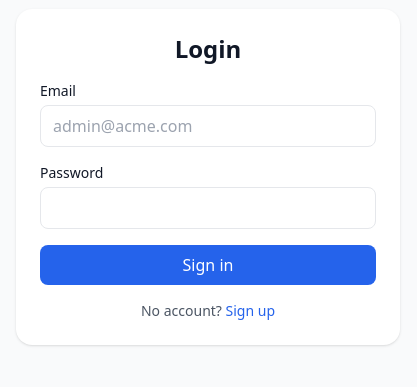
Test case: Login Component › renders login form and shows validation errors
Click the button "Sign in".
click(208, 265)  # box left=40, top=245, right=376, bottom=285
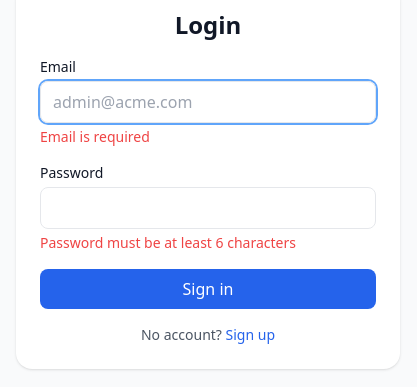
Expected: the text "Email is required" is shown, left=40, top=127, right=150, bottom=146
Expected: the text "Password must be at least 6 characters" is shown, left=40, top=233, right=296, bottom=252
